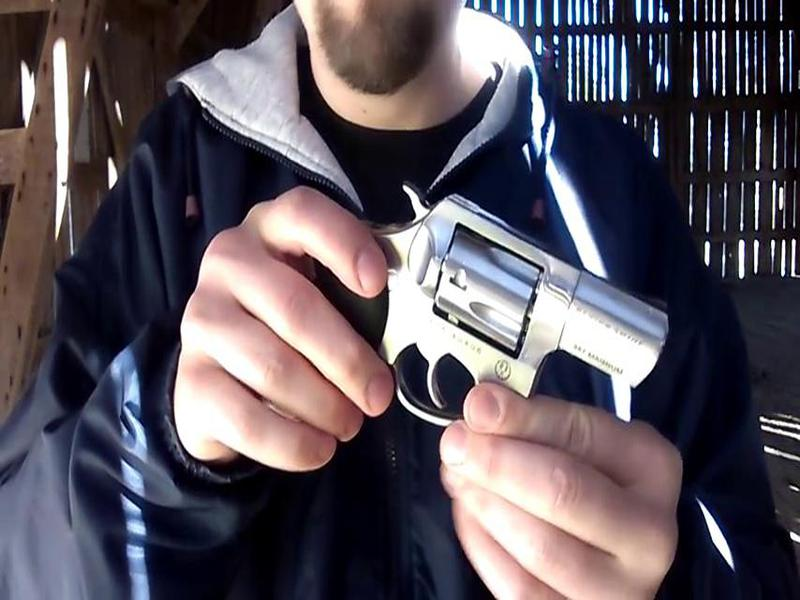Revolver: (345, 176, 671, 472)
